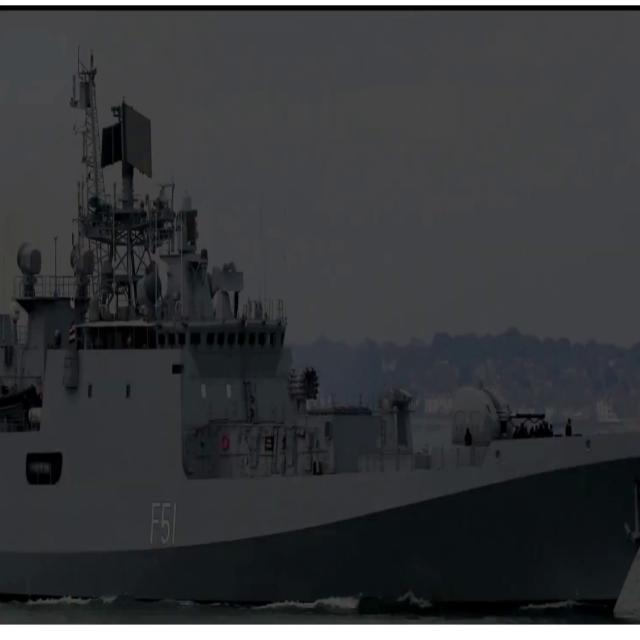OCR: (146, 495, 180, 548)
